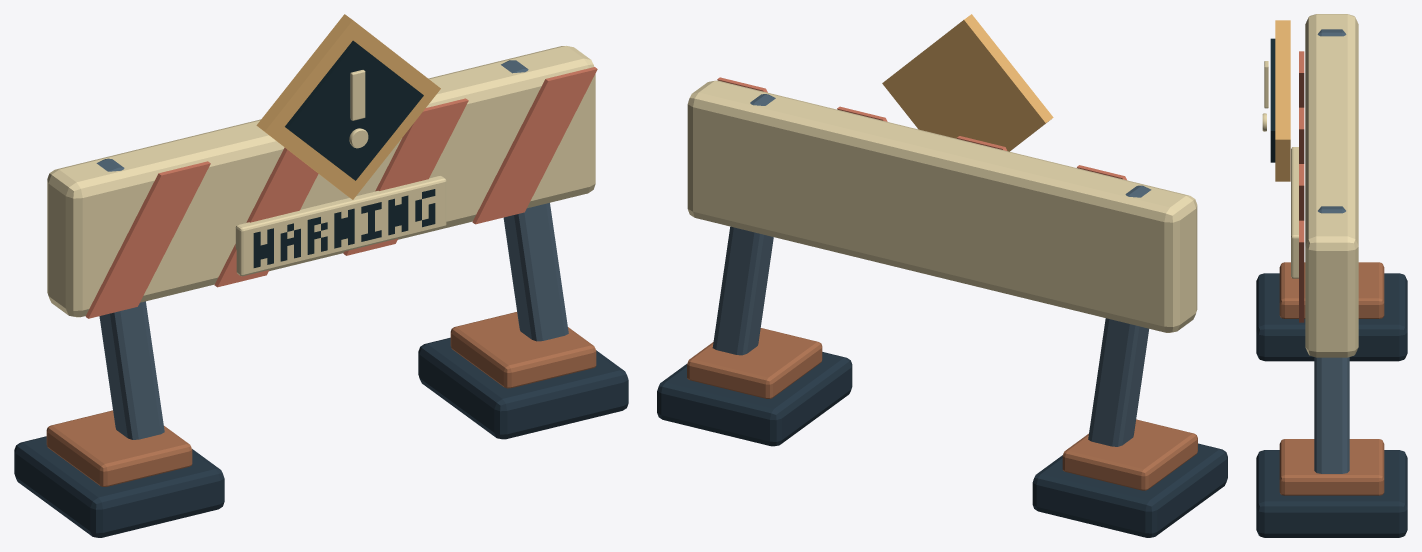
The picture shows the model from 3 angles, left to right: view 1: azimuth 30°, elevation 25°; view 2: azimuth 150°, elevation 25°; view 3: azimuth 270°, elevation 25°; orthographic projection. The views are drawn at different scales.
Visible parts, largest first — view 1: PR107 enamel and hardware; view 2: PR107 enamel and hardware; view 3: PR107 enamel and hardware.
Part boxes in pixels (x1,y1,x2,y2): PR107 enamel and hardware: (14, 14, 628, 537); PR107 enamel and hardware: (657, 14, 1227, 537); PR107 enamel and hardware: (1256, 14, 1407, 537).
Bounding box in the file's own units: 1.25 × 1 × 0.34.
